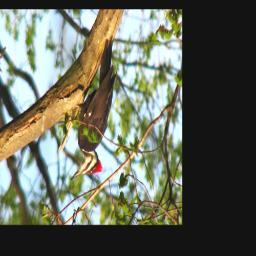Woodpecker: (67, 35, 118, 184)
